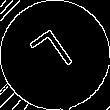L_SE: (28, 26, 82, 84)
